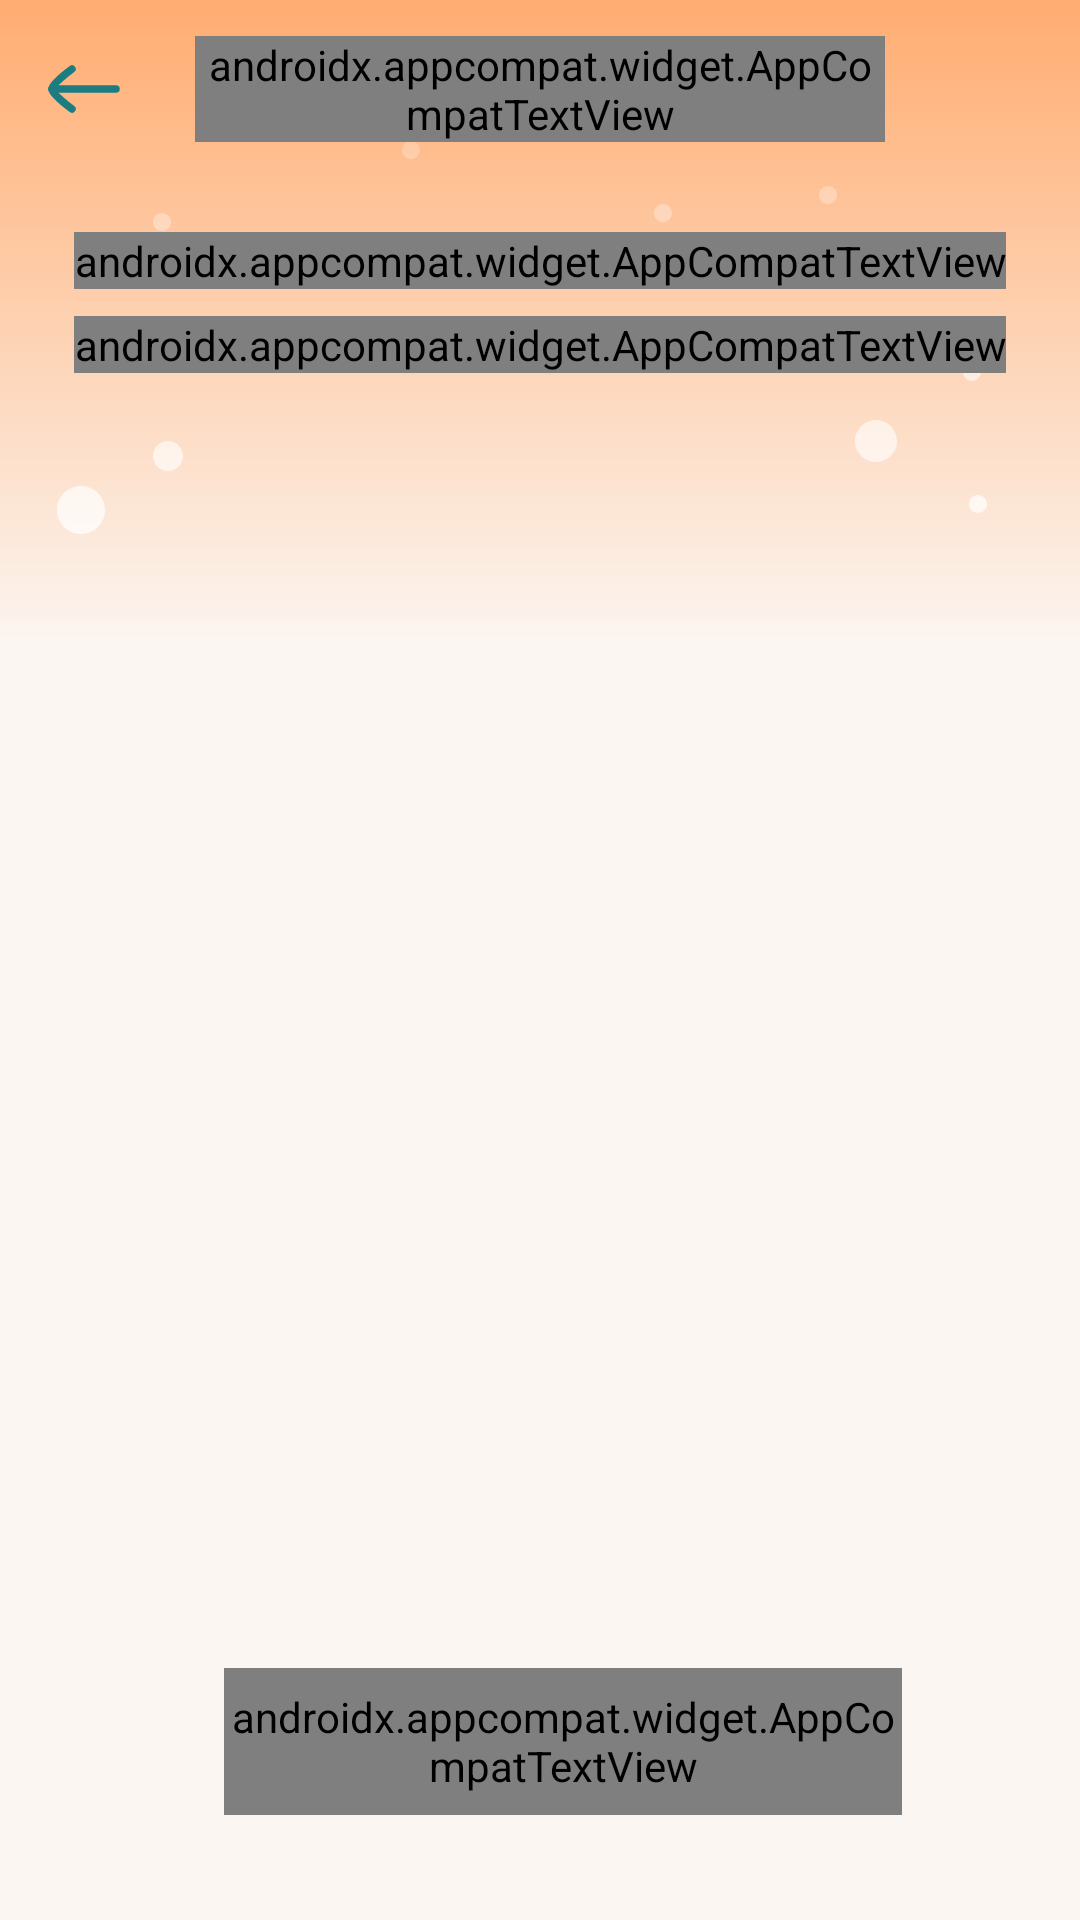

Where to tap for icons on this 1080w x 1920h app screen, as point (x, y):
back: point (84, 101)
